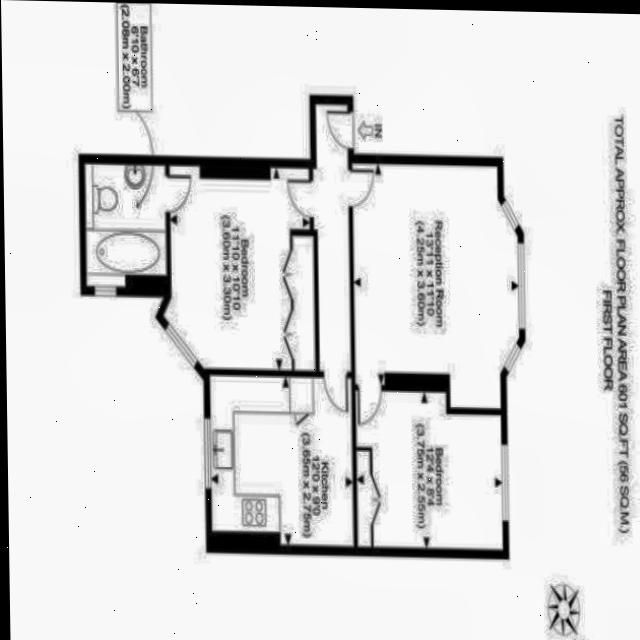room: (351, 162, 519, 408), (163, 166, 316, 370), (208, 374, 353, 549), (355, 394, 502, 550), (84, 164, 166, 287), (315, 103, 350, 371)
